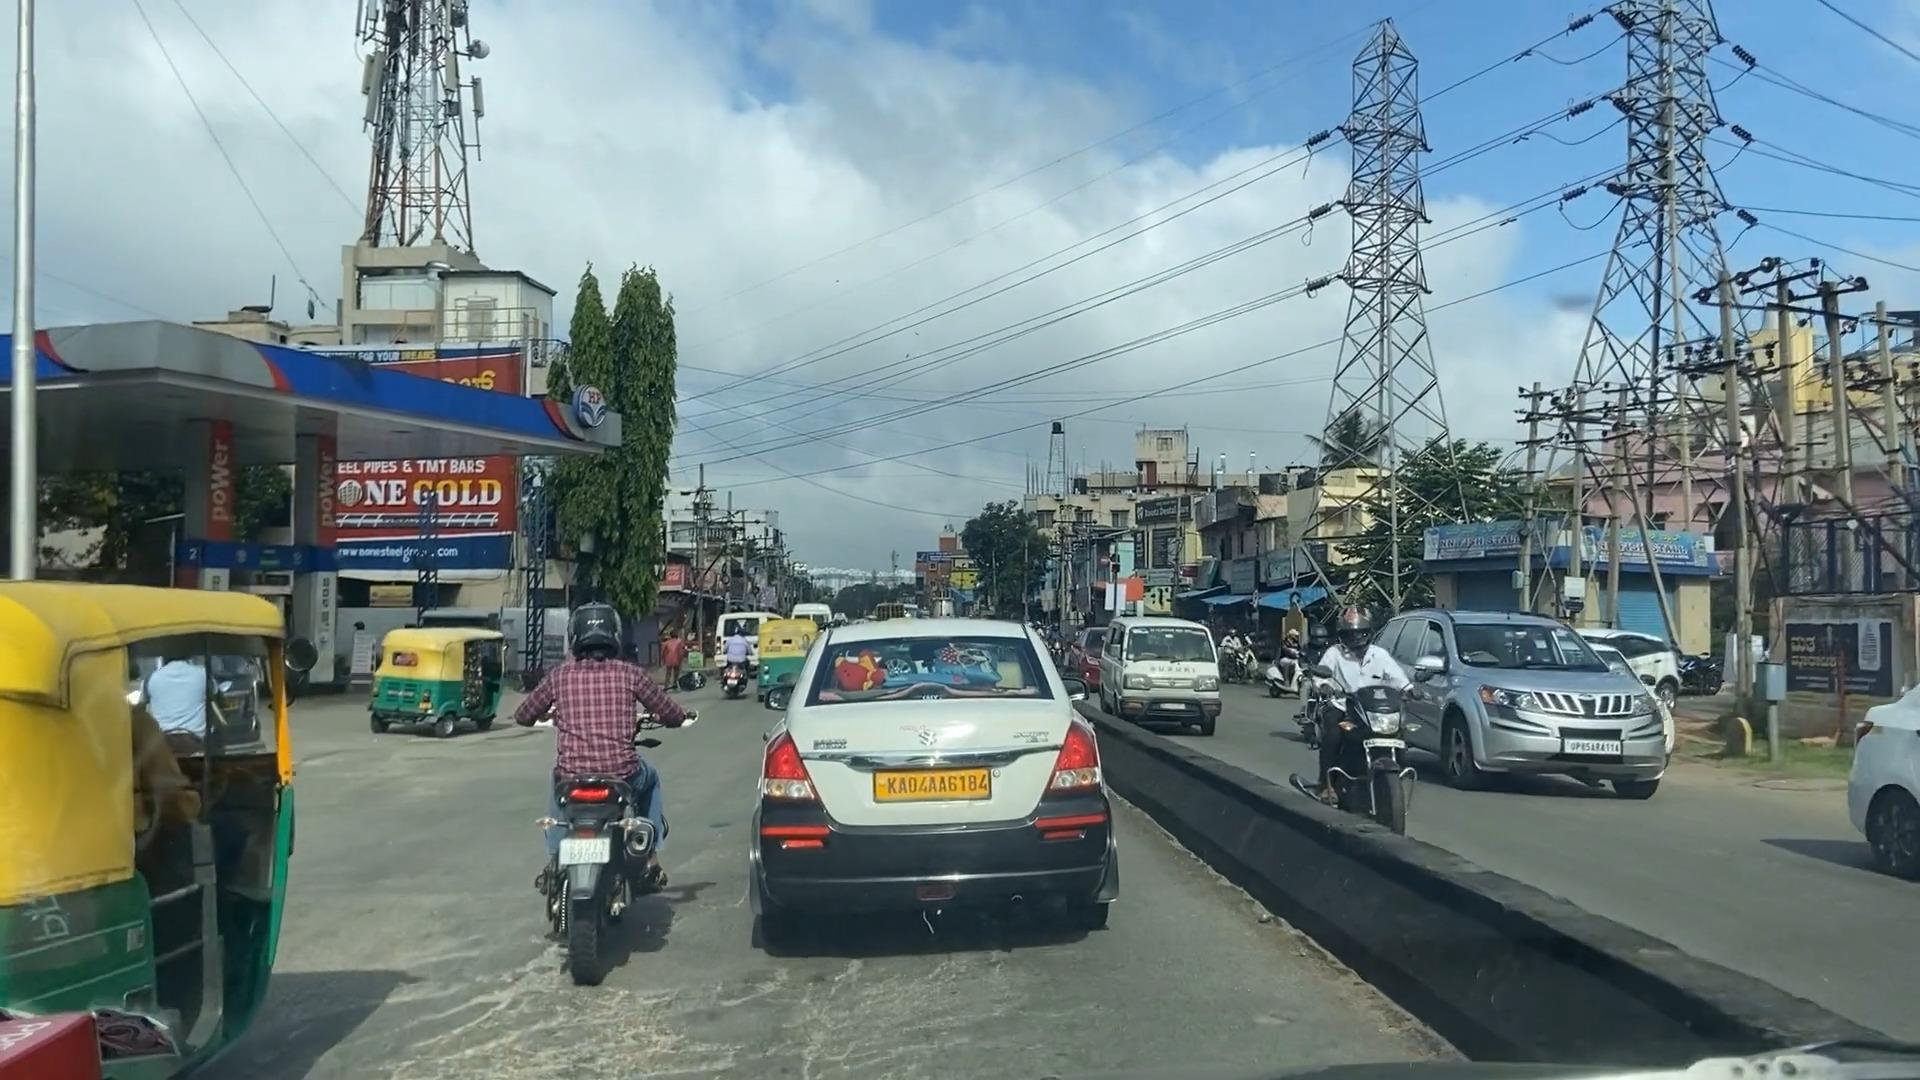LMV: (757, 617, 1105, 932), (558, 608, 661, 976)
RoadDamages: (405, 971, 845, 1080)
